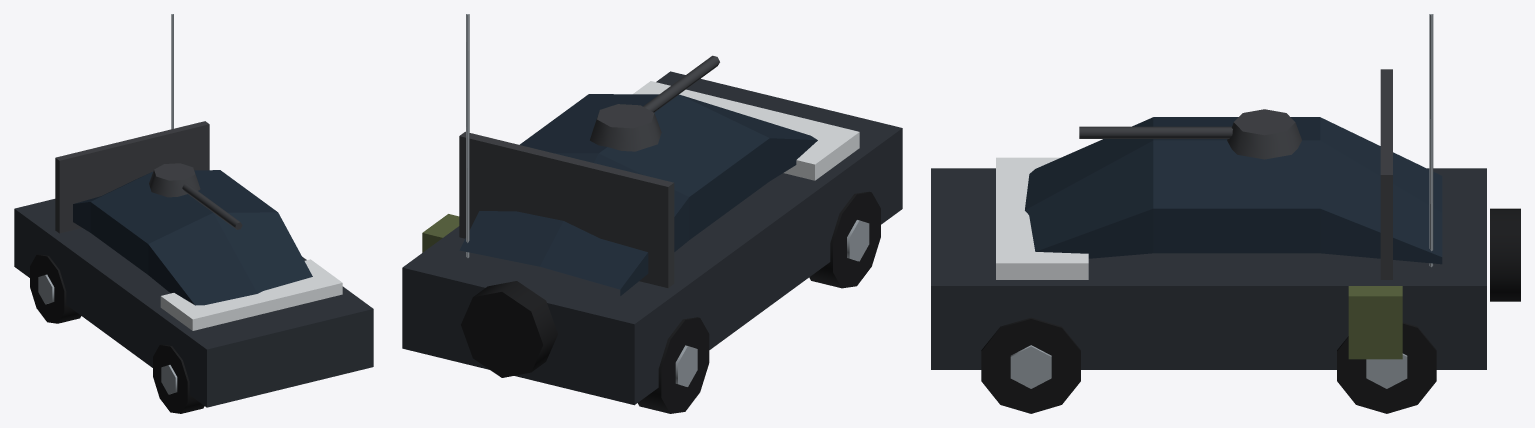
The model's file is veh_ground_jeep_a09.glb.
3 renders of one model, left to right at view 1: azimuth 30°, elevation 25°; view 2: azimuth 150°, elevation 25°; view 3: azimuth 270°, elevation 25°, orthographic. The views are drawn at different scales.
Visible parts, largest first — view 1: body, wheel_0, wheel_2, gun; view 2: body, wheel_0, wheel_2, gun; view 3: body, wheel_3, wheel_1, gun.
Part boxes in pixels (x1,y1,x2,y2): body: (14, 14, 373, 407); wheel_0: (30, 254, 80, 323); wheel_2: (153, 344, 204, 413); gun: (149, 163, 242, 229); body: (402, 14, 902, 405); wheel_0: (638, 317, 709, 413); wheel_2: (809, 191, 880, 288); gun: (590, 55, 719, 151); body: (931, 14, 1520, 369); wheel_3: (981, 317, 1080, 413); wheel_1: (1337, 322, 1436, 413); gun: (1079, 109, 1301, 159).
Size of what is drawn, in the model's own units: 2 by 2.71 by 3.82.
